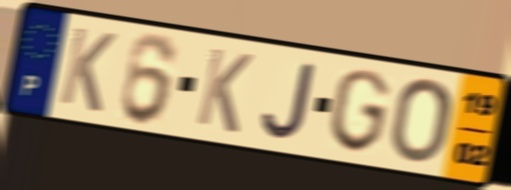6: (118, 29, 179, 129)
G: (326, 66, 393, 157)
J: (259, 58, 320, 143)
K: (193, 44, 256, 137), (56, 23, 119, 116)
O: (387, 77, 455, 166)
